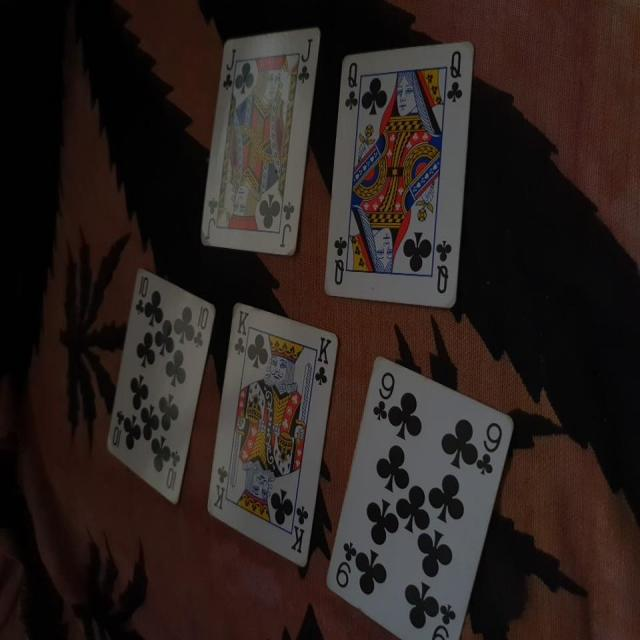10 Trefoils: (104, 264, 217, 505)
9 Trefoils: (323, 355, 517, 640)
J Trefoils: (200, 26, 322, 261)
K Trefoils: (204, 299, 338, 569)
Q Trefoils: (321, 40, 475, 309)
